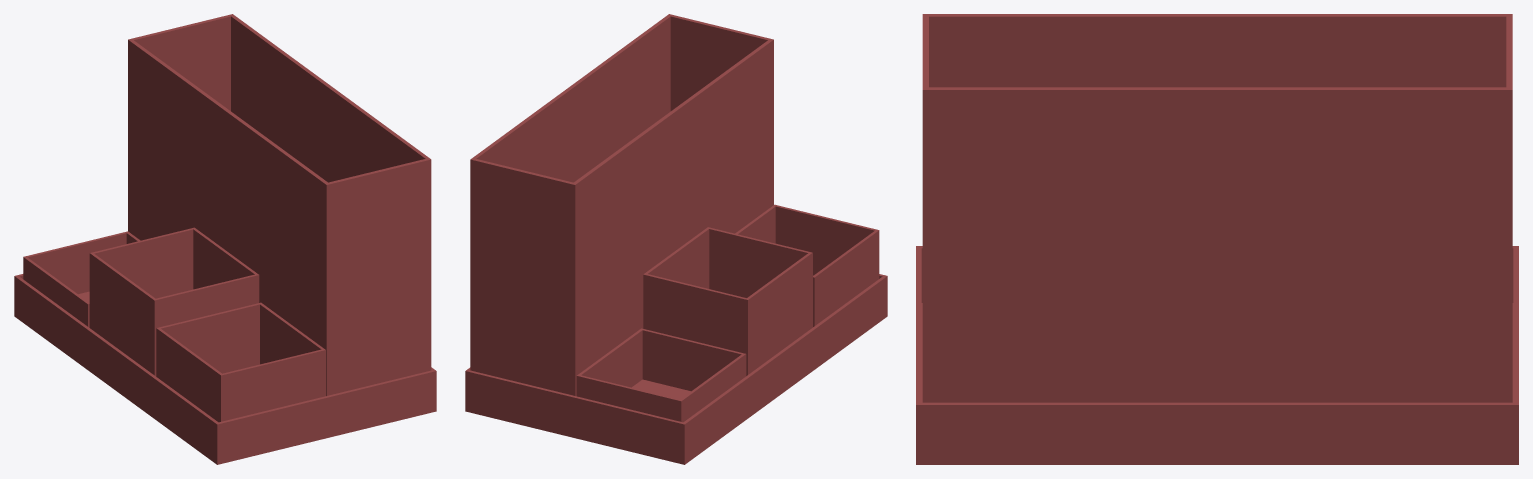
File: penhouder.fbx
The picture shows the model from 3 angles, left to right: view 1: azimuth 30°, elevation 25°; view 2: azimuth 150°, elevation 25°; view 3: azimuth 270°, elevation 25°; orthographic projection. The views are drawn at different scales.
Parts seen in each view (by area): view 1: Cube.007; view 2: Cube.007; view 3: Cube.007.
Part boxes in pixels (<box>): Cube.007: <box>14,14,436,464</box>; Cube.007: <box>465,14,887,464</box>; Cube.007: <box>916,14,1518,464</box>.
Bounding box in the file's own units: 14.11 × 15.43 × 22.61.
